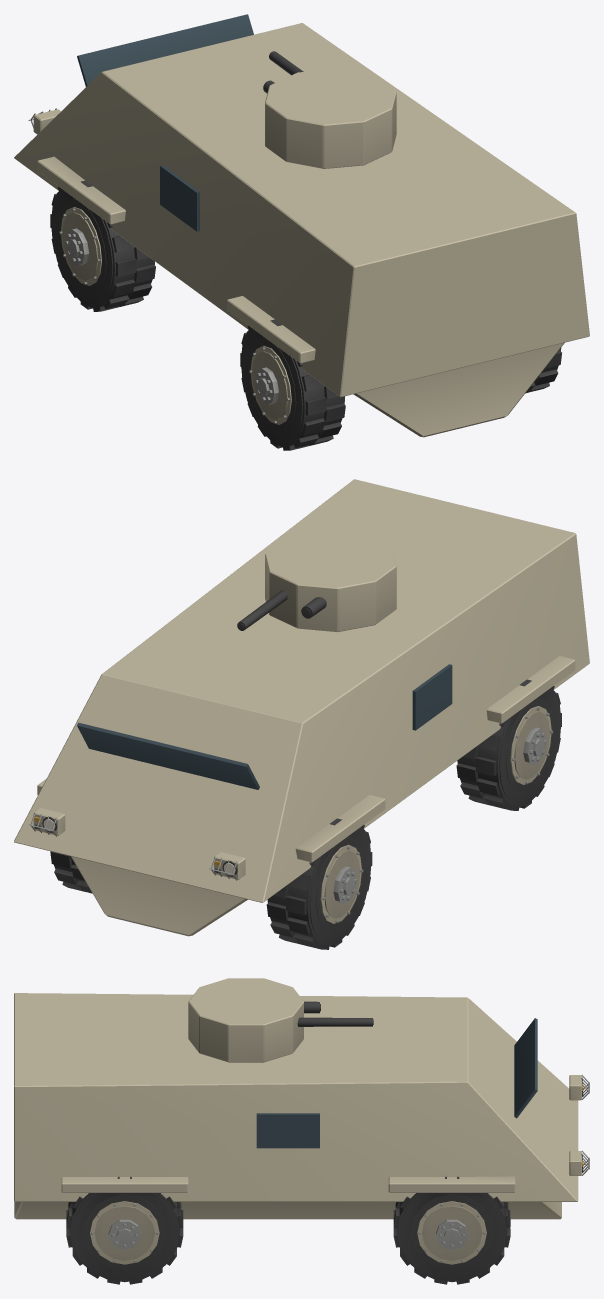
The model's file is usa_apc_guard.glb.
3 views of the same model, one above another, from view 1: azimuth 30°, elevation 25°; view 2: azimuth 150°, elevation 25°; view 3: azimuth 270°, elevation 25° (orthographic). The views are drawn at different scales.
Parts seen in each view (by area): view 1: body, turret, wheel_2, wheel_0, wheel_3; view 2: body, turret, wheel_0, wheel_2, barrel, wheel_1; view 3: body, wheel_3, wheel_1, turret, barrel.
Boxes of the visible parts, x1,y1,x2,y2 form: body: (14,14,589,437); turret: (265,69,396,168); wheel_2: (240,319,345,450); wheel_0: (50,180,155,311); wheel_3: (525,348,561,393); body: (14,479,589,936); turret: (265,532,396,632); wheel_0: (266,818,372,949); wheel_2: (456,679,561,810); barrel: (237,590,326,630); wheel_1: (50,851,92,893); body: (14,993,589,1219); wheel_3: (66,1176,183,1284); wheel_1: (393,1176,510,1284); turret: (188,978,303,1062); barrel: (297,1001,373,1026).
Bounding box in the file's own units: 2.62 × 2.4 × 5.46.
